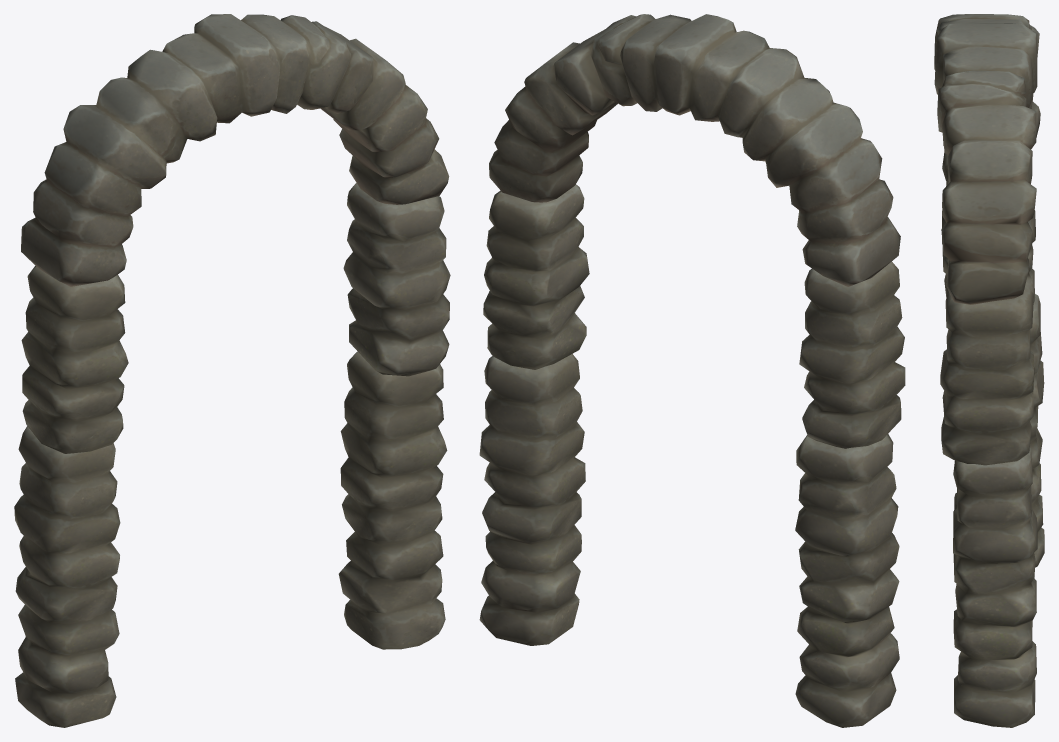
Rendered from SM_FW01_Ruins_Decor_Arch_05.fbx.
3 views of the same model, side by side, from view 1: azimuth 30°, elevation 25°; view 2: azimuth 150°, elevation 25°; view 3: azimuth 270°, elevation 25° (orthographic). The views are drawn at different scales.
Visible parts, largest first — view 1: SM_FW01_Ruins_Decor_Arch_05_LOD0; view 2: SM_FW01_Ruins_Decor_Arch_05_LOD0; view 3: SM_FW01_Ruins_Decor_Arch_05_LOD0.
Part boxes in pixels (x1,y1,x2,y2): SM_FW01_Ruins_Decor_Arch_05_LOD0: (14, 14, 450, 727); SM_FW01_Ruins_Decor_Arch_05_LOD0: (479, 14, 905, 727); SM_FW01_Ruins_Decor_Arch_05_LOD0: (934, 14, 1044, 727).
Size of what is drawn, in the model's own units: 2.97 by 4.6 by 0.7584.
